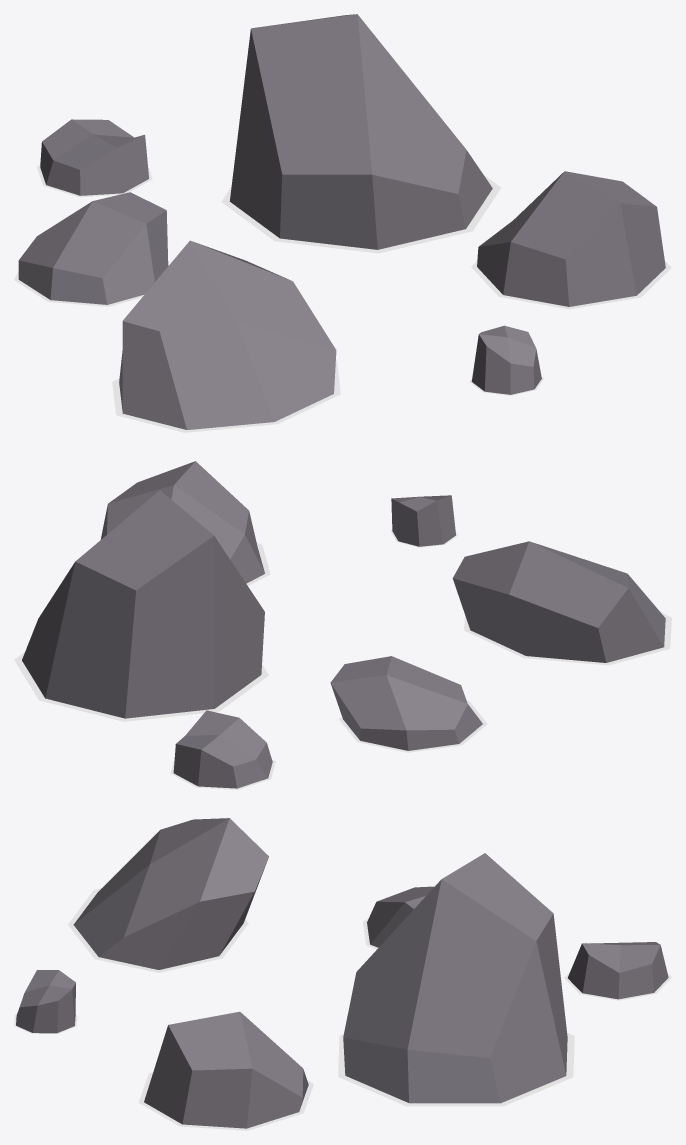
File: RocksInWater.fbx
3 views of the same model, one above another, from view 1: azimuth 30°, elevation 25°; view 2: azimuth 150°, elevation 25°; view 3: azimuth 270°, elevation 25° (orthographic). The views are drawn at different scales.
Parts seen in each view (by area): view 1: RocksInWater; view 2: RocksInWater; view 3: RocksInWater.
Boxes of the visible parts, x1,y1,x2,y2 form: RocksInWater: [14, 14, 671, 432]; RocksInWater: [14, 461, 671, 789]; RocksInWater: [14, 818, 671, 1130].
Bounding box in the file's own units: 0.746 × 0.2345 × 0.8106.
